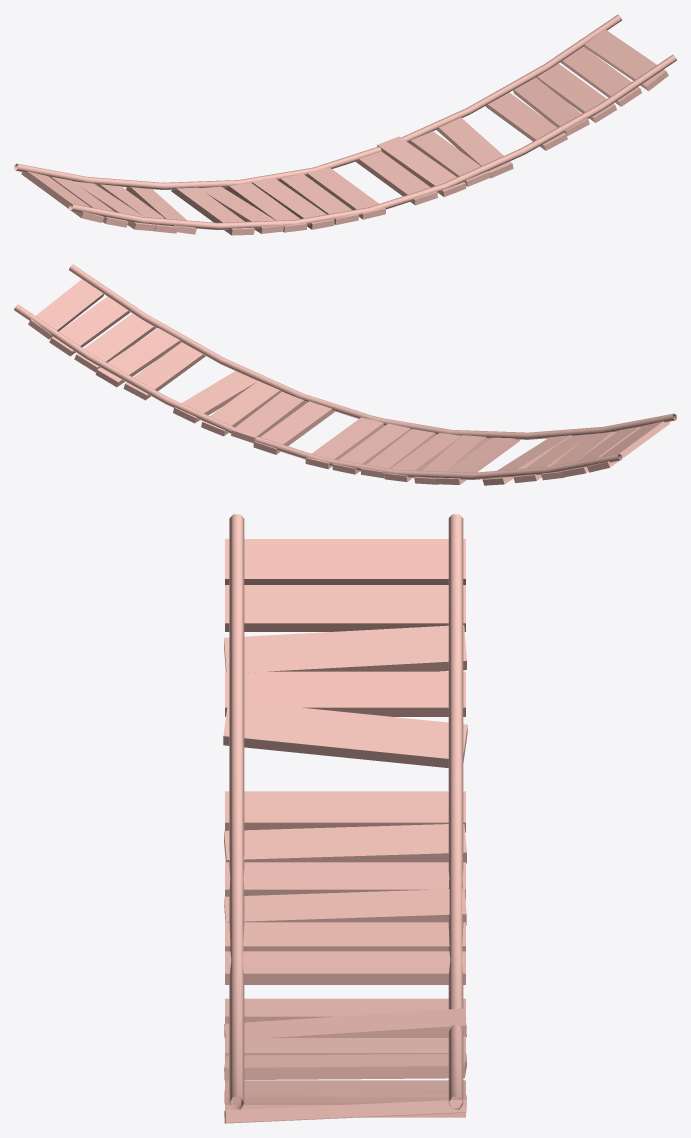
File: Mega_Asset_s_Pack_Cube_268.FBX
The picture shows the model from 3 angles, top to bottom: view 1: azimuth 30°, elevation 25°; view 2: azimuth 150°, elevation 25°; view 3: azimuth 270°, elevation 25°; orthographic projection. The views are drawn at different scales.
Visible parts, largest first — view 1: Mega_Asset_s_Pack_Cube_268; view 2: Mega_Asset_s_Pack_Cube_268; view 3: Mega_Asset_s_Pack_Cube_268.
Boxes of the visible parts, <box> form: Mega_Asset_s_Pack_Cube_268: <box>14,14,676,235</box>; Mega_Asset_s_Pack_Cube_268: <box>14,264,676,485</box>; Mega_Asset_s_Pack_Cube_268: <box>223,514,467,1123</box>.
Size of what is drawn, in the model's own units: 1513 by 264 by 205.
